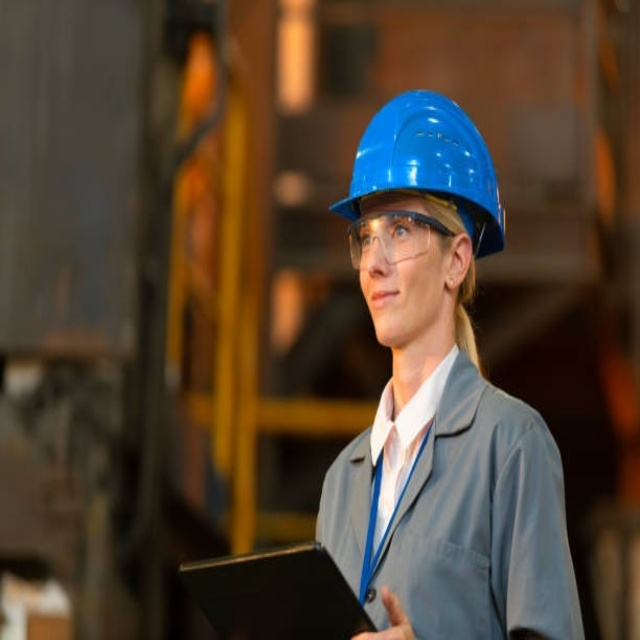Gafas: (347, 213, 453, 270)
Sin_mascara: (365, 279, 410, 336)
